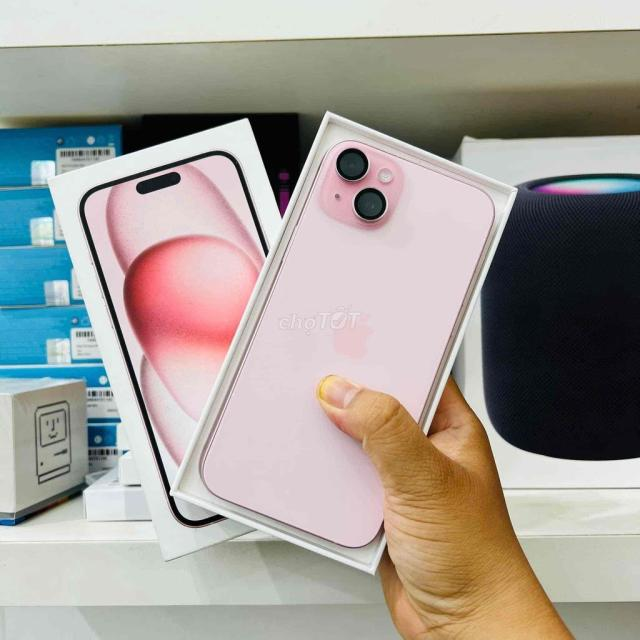gen_12_13: (190, 123, 499, 554)
